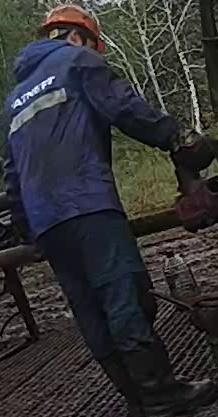gloves: (158, 121, 202, 162)
helmet: (41, 4, 108, 51)
vest: (2, 39, 126, 241)
